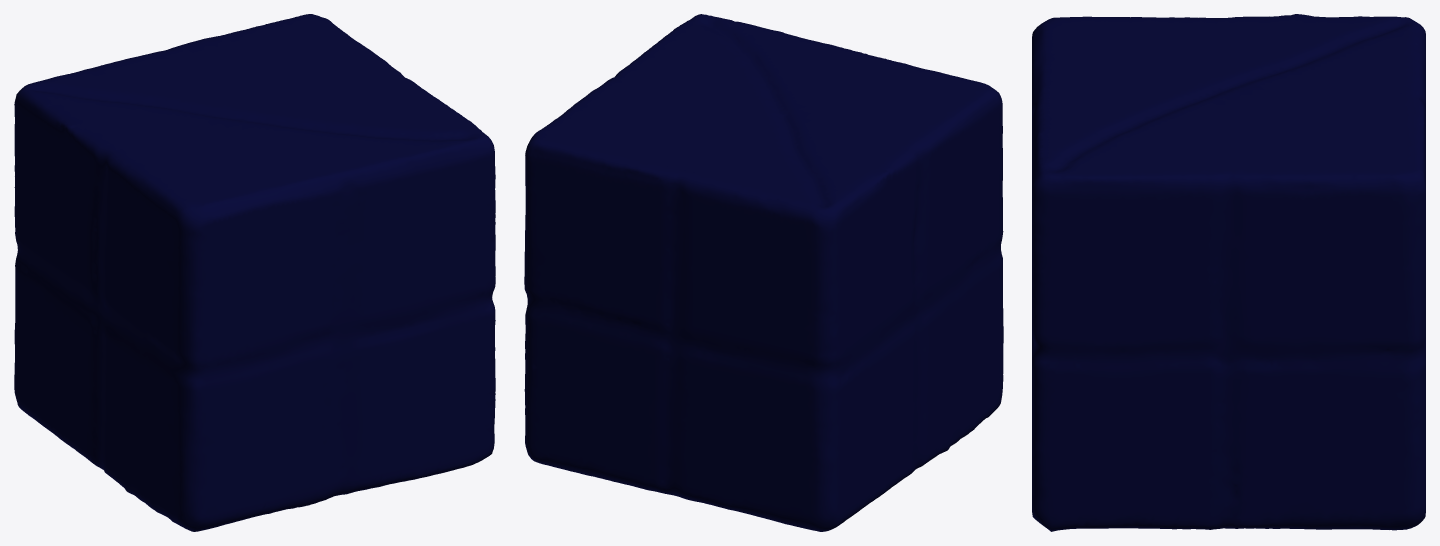
The model's file is blue_tile.dae.
3 views of the same model, side by side, from view 1: azimuth 30°, elevation 25°; view 2: azimuth 150°, elevation 25°; view 3: azimuth 270°, elevation 25° (orthographic). The views are drawn at different scales.
Parts seen in each view (by area): view 1: Cube; view 2: Cube; view 3: Cube.
Boxes of the visible parts, x1=… form: Cube: x1=14, y1=14, x2=495, y2=531; Cube: x1=524, y1=14, x2=1003, y2=531; Cube: x1=1032, y1=14, x2=1425, y2=531.
Size of the model in its own units: 2 by 2 by 2.
